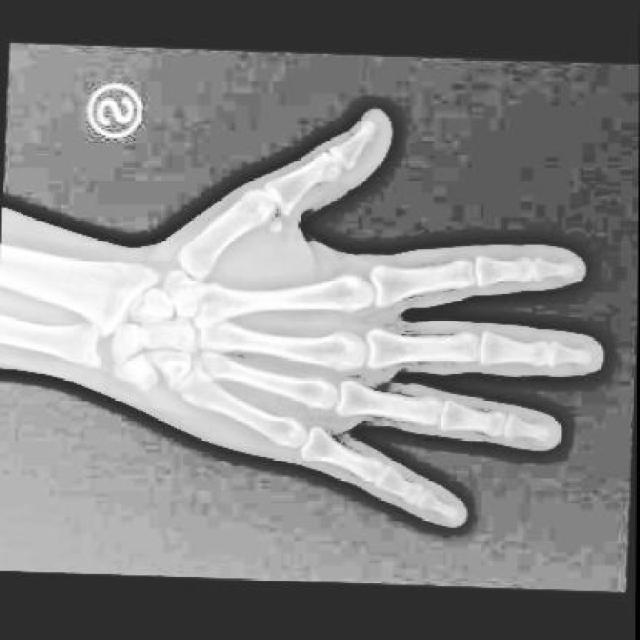Fracture: (316, 163, 344, 188)
